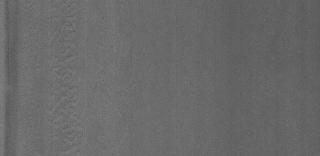silk spot: (48, 11, 92, 148)
